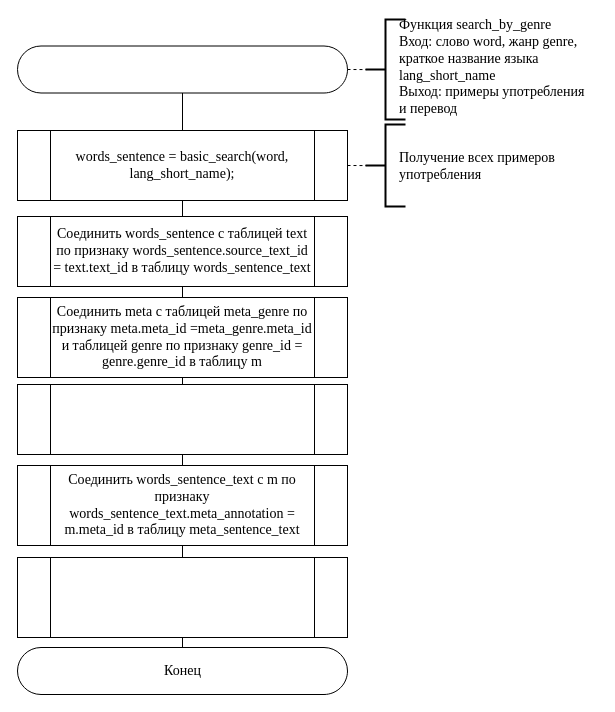
This 615x712 diagram has some shape labels left out. The shapes that lost their labels are listed below. From the top down, each one's box as (x1, y1, x2, y2) in pixels, then its label:
(16, 45, 348, 93): Начало
(16, 384, 348, 454): m_filtered = строки таблицы m, где m.name = genre
(16, 556, 348, 638): Вернуть таблицу meta_sentence_text
